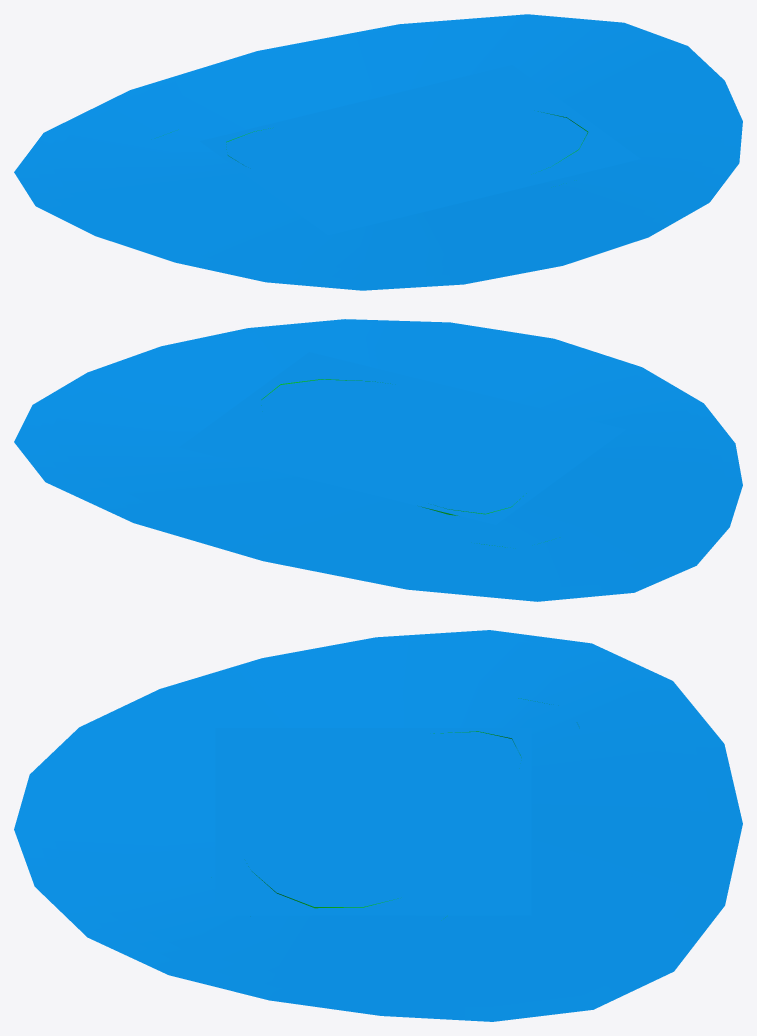
Rendered from SM_Hall_Auditorium_Roof.fbx.
The picture shows the model from 3 angles, top to bottom: view 1: azimuth 30°, elevation 25°; view 2: azimuth 150°, elevation 25°; view 3: azimuth 270°, elevation 25°; orthographic projection. The views are drawn at different scales.
Visible parts, largest first — view 1: SM_Hall_Auditorium_Roof; view 2: SM_Hall_Auditorium_Roof; view 3: SM_Hall_Auditorium_Roof.
Boxes of the visible parts, x1,y1,x2,y2 form: SM_Hall_Auditorium_Roof: [14, 14, 742, 290]; SM_Hall_Auditorium_Roof: [14, 319, 742, 601]; SM_Hall_Auditorium_Roof: [14, 630, 742, 1021].
Bounding box in the file's own units: 5772 × 123 × 4536.
